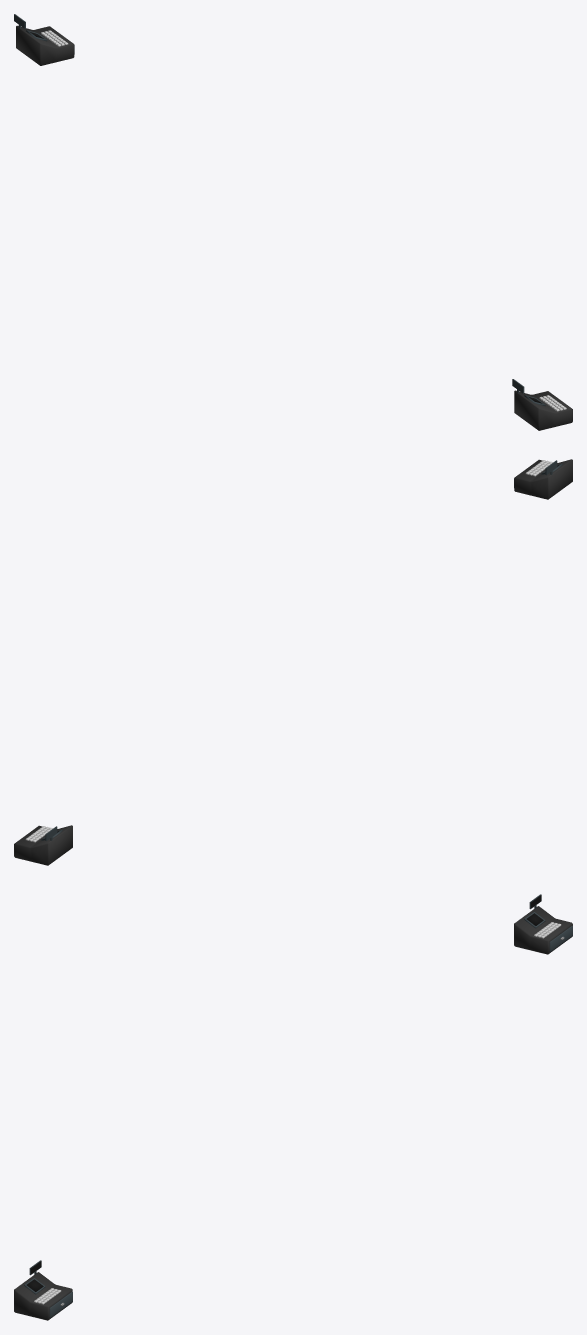
The model's file is Tills.glb.
3 renders of one model, top to bottom at view 1: azimuth 30°, elevation 25°; view 2: azimuth 150°, elevation 25°; view 3: azimuth 330°, elevation 25°, orthographic.
Visible parts, largest first — view 1: Tills; view 2: Tills; view 3: Tills.
Part boxes in pixels (box(x1,y1,x2,y2)): Tills: box(14, 14, 572, 430); Tills: box(14, 459, 572, 865); Tills: box(14, 894, 572, 1320).
Bounding box in the file's own units: 0.3481 × 0.2926 × 8.43.
1 material, 1 textured.
